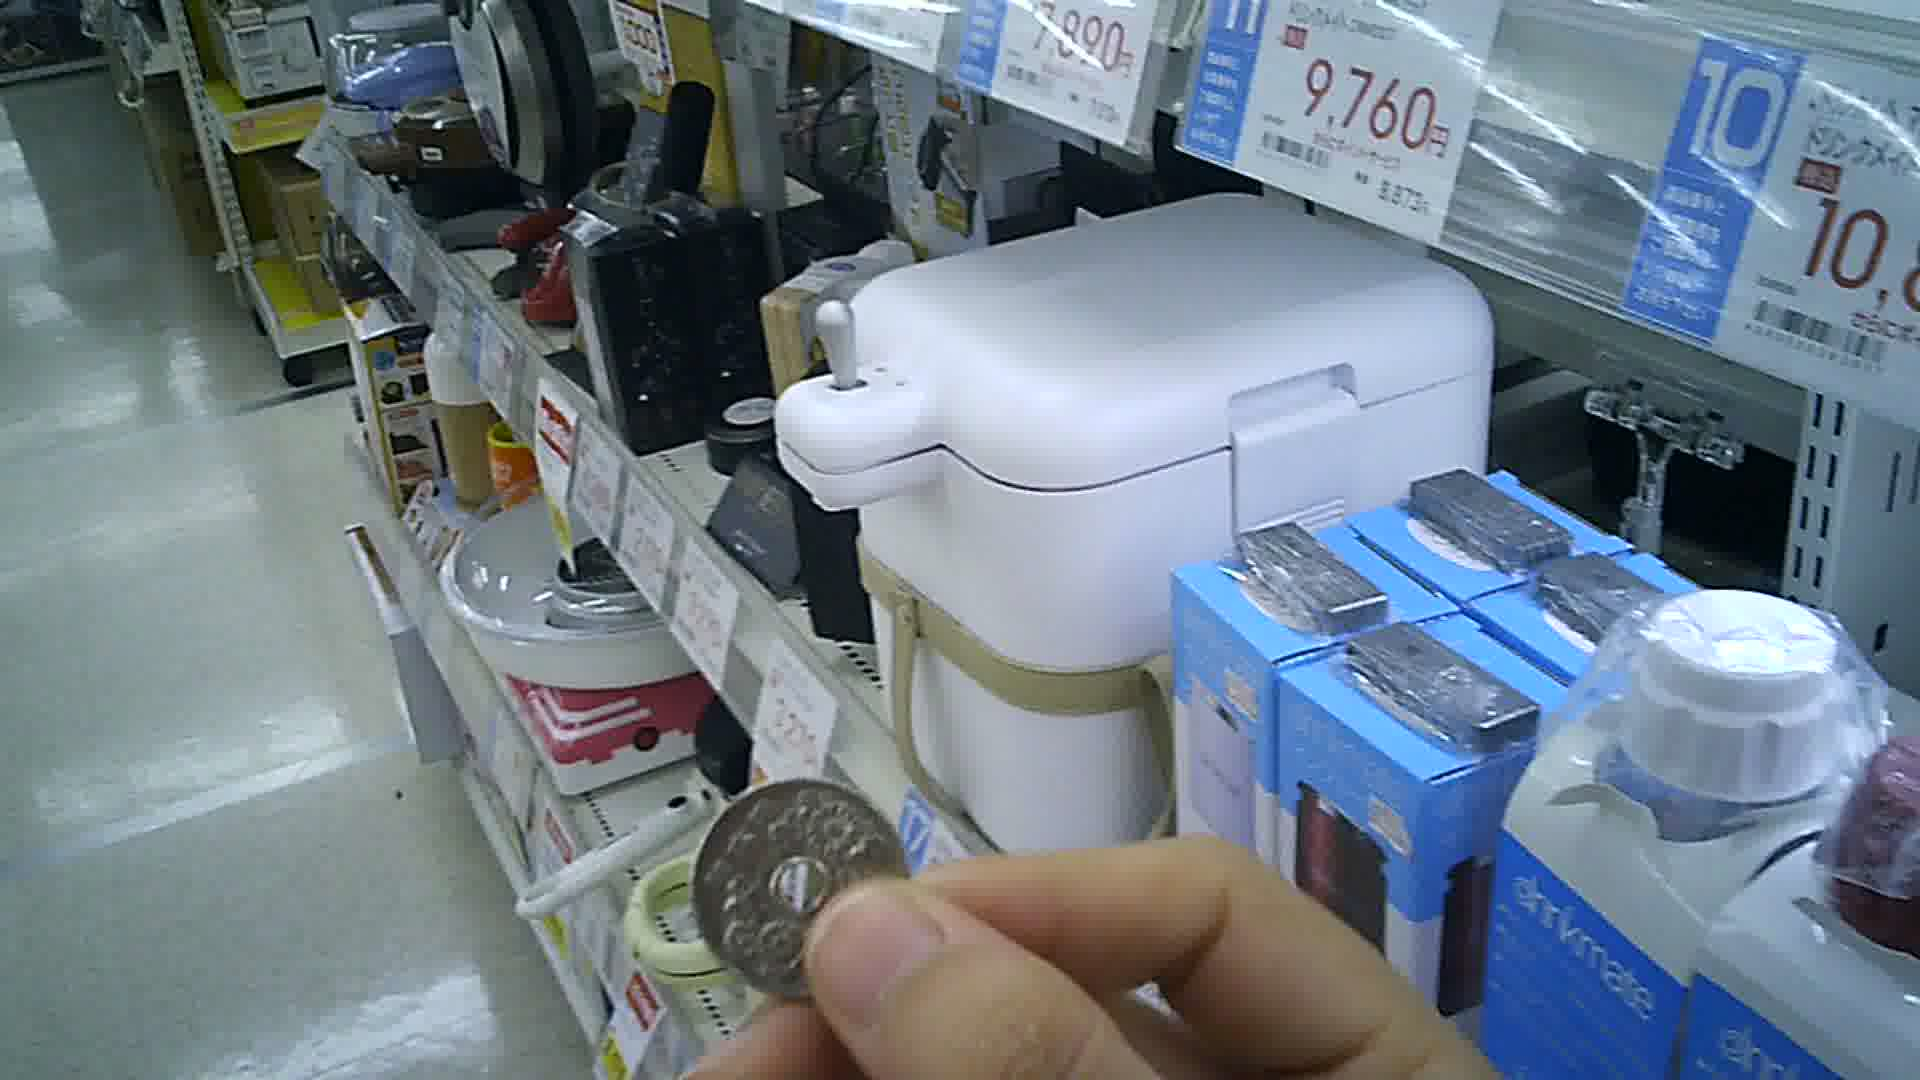50 Yen: (684, 781, 916, 1002)
